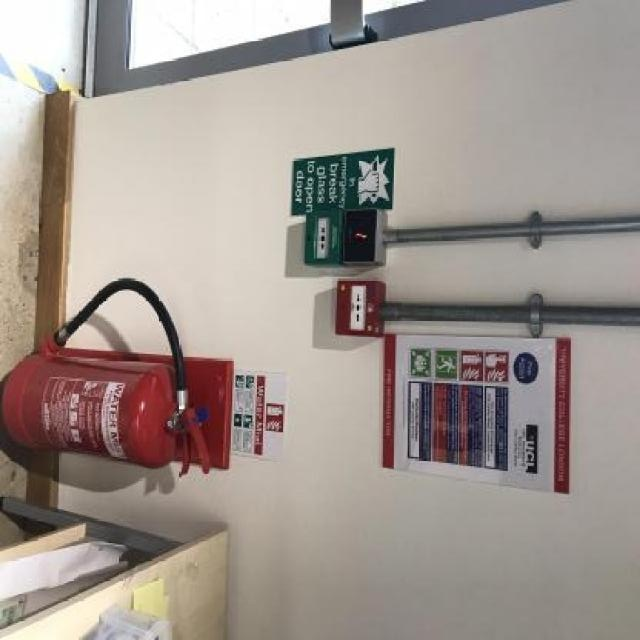fire extinguisher: (0, 277, 213, 480)
